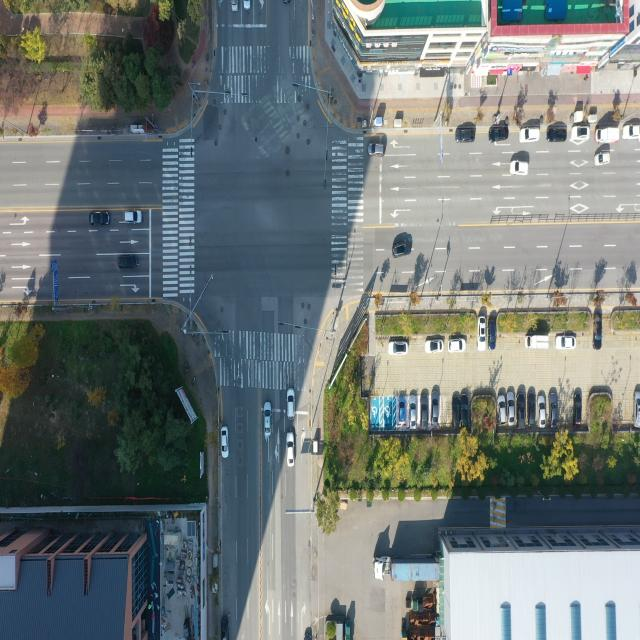car: (550, 392, 559, 430), (388, 341, 409, 357), (263, 402, 272, 438), (90, 211, 110, 227), (521, 128, 541, 144), (556, 336, 576, 352), (489, 128, 509, 144), (408, 393, 417, 428), (430, 391, 439, 425), (118, 254, 138, 269), (488, 318, 497, 350), (594, 314, 602, 350), (452, 393, 460, 429), (125, 210, 144, 225), (548, 130, 568, 144), (479, 316, 487, 351), (286, 433, 294, 467), (511, 162, 529, 177), (572, 127, 590, 142), (456, 131, 475, 145), (538, 395, 546, 428), (574, 393, 582, 426), (518, 392, 526, 424), (528, 392, 536, 424), (623, 125, 640, 140), (449, 339, 466, 354), (369, 143, 387, 157), (425, 340, 443, 354), (287, 389, 295, 419), (421, 392, 428, 426), (461, 393, 468, 427), (219, 615, 228, 640), (506, 392, 513, 424), (220, 428, 227, 459), (498, 394, 505, 424), (634, 391, 640, 426), (392, 245, 408, 258), (399, 394, 406, 422), (595, 153, 610, 165), (243, 0, 252, 10), (233, 0, 240, 11)
large_truck: (371, 556, 440, 583)
small_truck: (595, 127, 619, 143), (525, 334, 549, 350)
